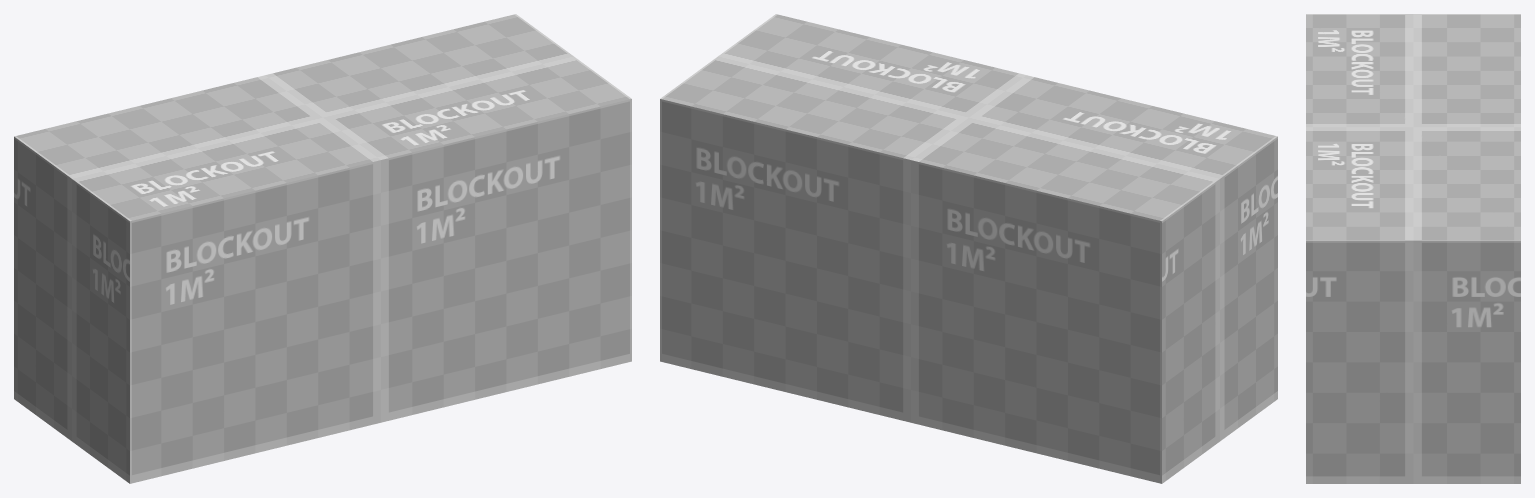
Rendered from BlockoutEdgeFullThickWall02.fbx.
3 views of the same model, side by side, from view 1: azimuth 30°, elevation 25°; view 2: azimuth 150°, elevation 25°; view 3: azimuth 270°, elevation 25° (orthographic). The views are drawn at different scales.
Visible parts, largest first — view 1: BlockoutEdgeFullThickWall02; view 2: BlockoutEdgeFullThickWall02; view 3: BlockoutEdgeFullThickWall02.
Boxes of the visible parts, bbox=[...] form: BlockoutEdgeFullThickWall02: bbox=[14, 14, 631, 483]; BlockoutEdgeFullThickWall02: bbox=[660, 14, 1277, 483]; BlockoutEdgeFullThickWall02: bbox=[1306, 14, 1520, 483].
Size of the model in its own units: 200 by 100 by 80.
